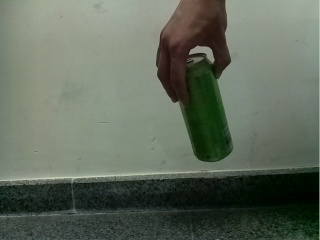botella plastico: (177, 53, 234, 162)
